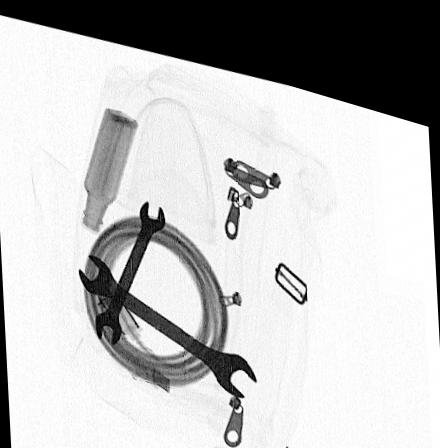Wrench: (78, 250, 256, 385), (94, 191, 165, 342)
